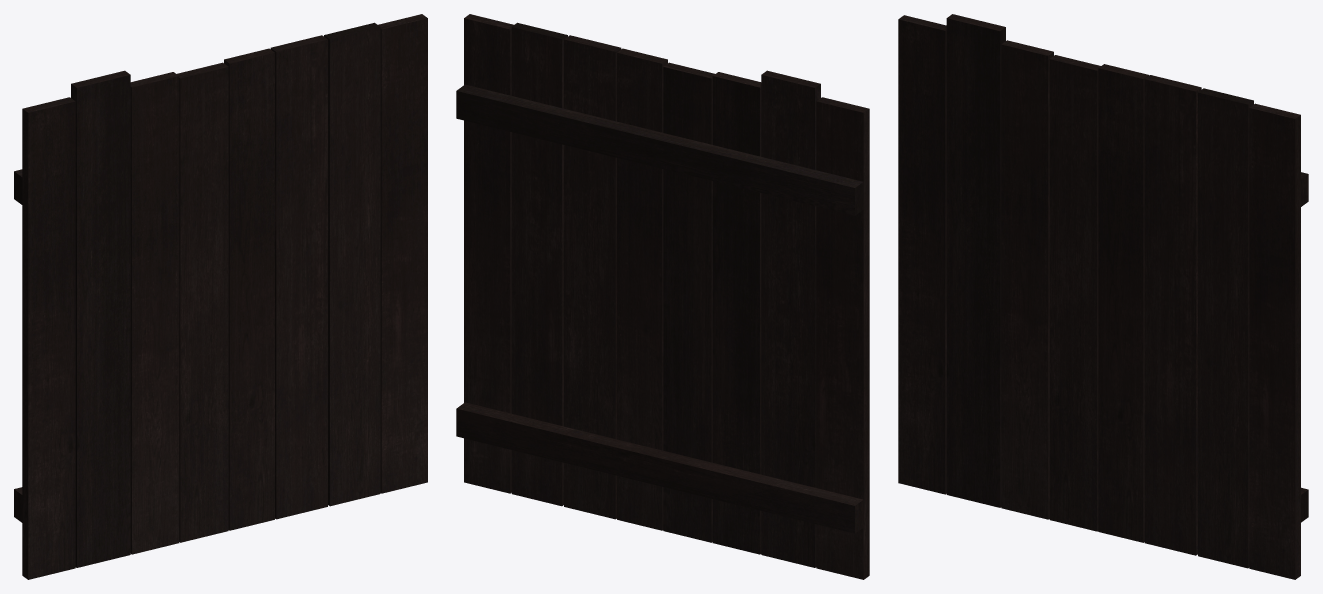
File: WOOD FENCE.fbx
3 renders of one model, left to right at view 1: azimuth 30°, elevation 25°; view 2: azimuth 150°, elevation 25°; view 3: azimuth 330°, elevation 25°, orthographic.
Parts seen in each view (by area): view 1: WOOD FENCE; view 2: WOOD FENCE; view 3: WOOD FENCE.
Boxes of the visible parts, box(x1,y1,x2,y2) form: WOOD FENCE: box(14, 14, 427, 579); WOOD FENCE: box(456, 14, 869, 579); WOOD FENCE: box(898, 14, 1308, 579).
Size of the model in its own units: 200 by 229 by 12.42.
